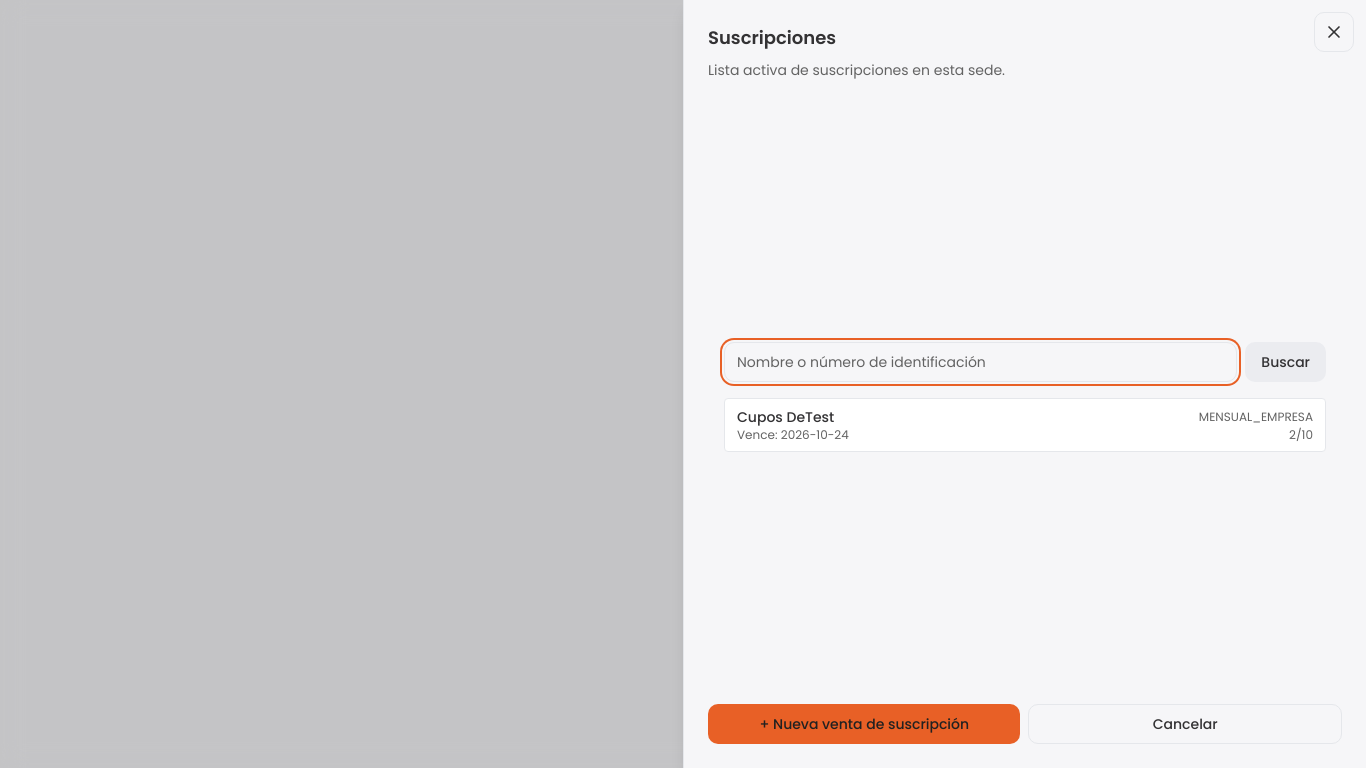
Test case: <SuscripcionesSheet /> — HU-F9.1 + HU-F9.2 realineada › S3: search submit with a match → advances to cupos mode with the detail
Type "9998887771" into the field with test id "suscripciones-buscar-input" at (981, 362), box left=724, top=342, right=1237, bottom=382
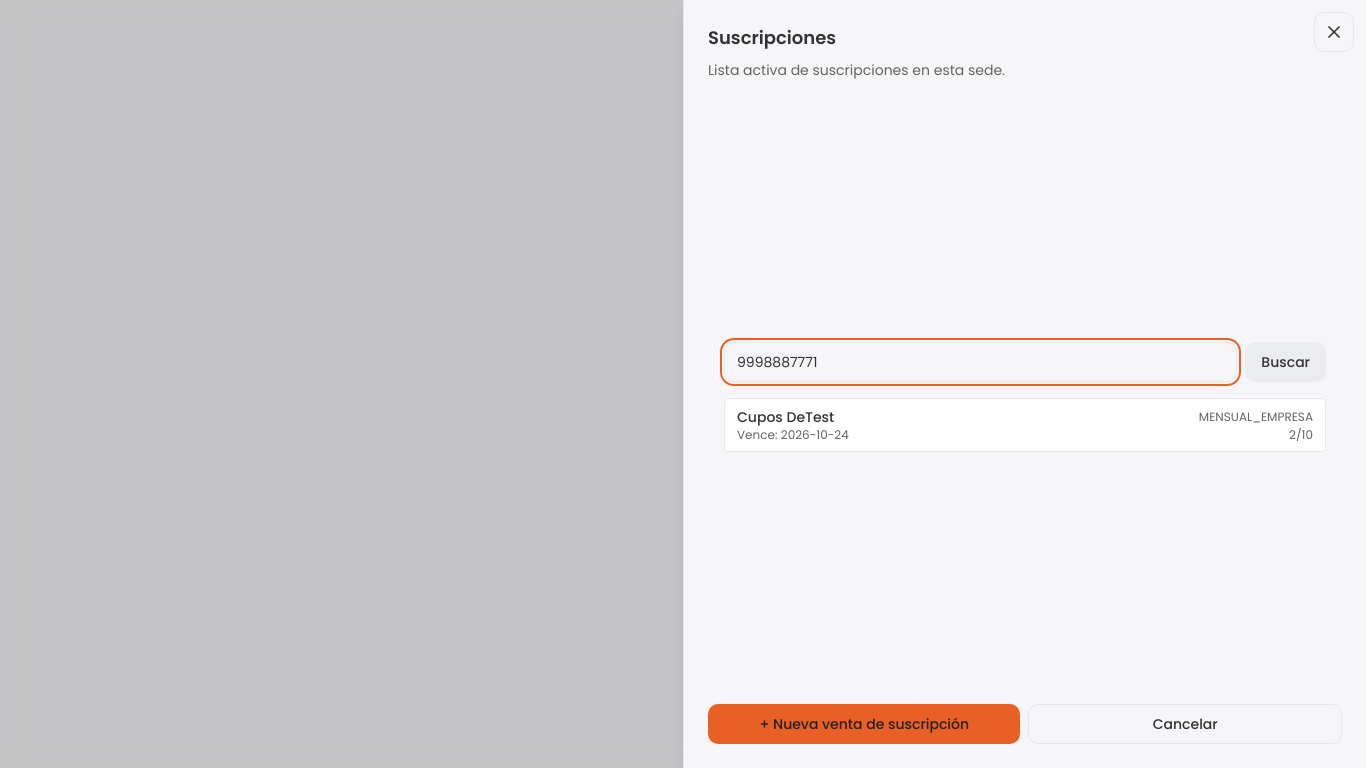
Click the button with test id "suscripciones-buscar-submit" at (1286, 362), box left=1245, top=342, right=1326, bottom=382
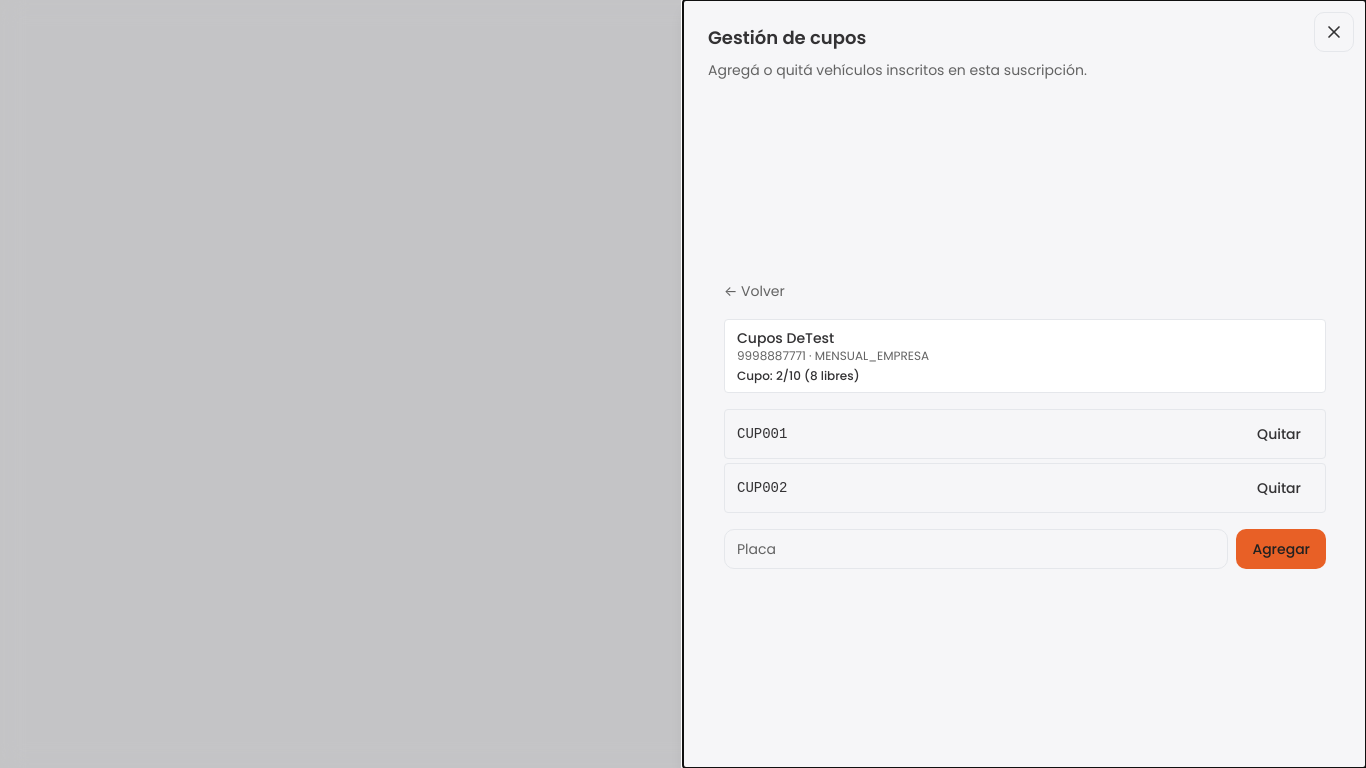
Expected: the element with test id "suscripciones-cupos-detalle" is shown, left=724, top=279, right=1326, bottom=569
Expected: the text with test id "suscripciones-cupos-resumen" shows "2/10", left=737, top=367, right=860, bottom=384
Expected: the list item with test id "suscripciones-cupos-vehiculo-sv-1" shows "CUP001", left=737, top=426, right=787, bottom=442
